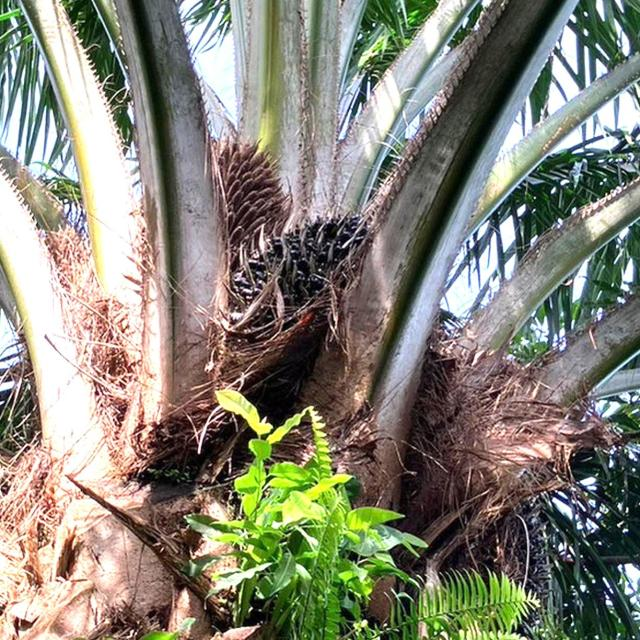unripe: (208, 201, 381, 369)
